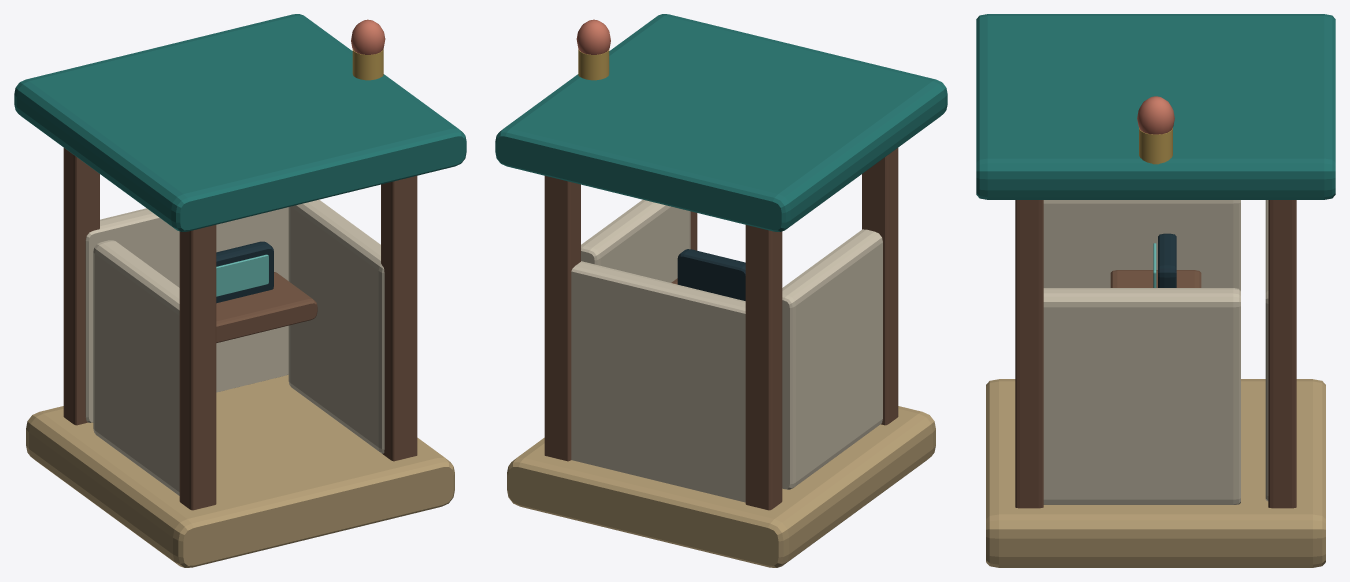
Rendered from guard-station-lod1.glb.
The picture shows the model from 3 angles, left to right: view 1: azimuth 30°, elevation 25°; view 2: azimuth 150°, elevation 25°; view 3: azimuth 270°, elevation 25°; orthographic projection. The views are drawn at different scales.
Parts seen in each view (by area): view 1: shell, emission; view 2: shell, emission; view 3: shell, emission.
Part boxes in pixels (x1,y1,x2,y2): shell: (14, 14, 466, 567); emission: (216, 19, 385, 296); shell: (495, 14, 947, 567); emission: (576, 19, 610, 54); shell: (976, 14, 1335, 567); emission: (1137, 96, 1174, 287).
Bounding box in the file's own units: 1.95 × 2.74 × 1.9.
